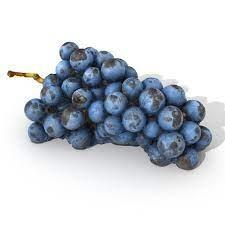Grape Overripe: (8, 42, 211, 169)
